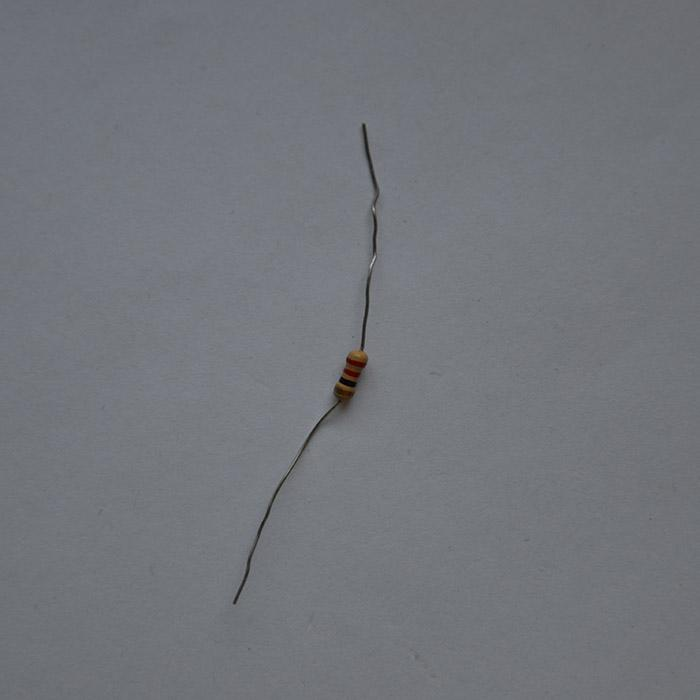resistor: (334, 348, 368, 401)
